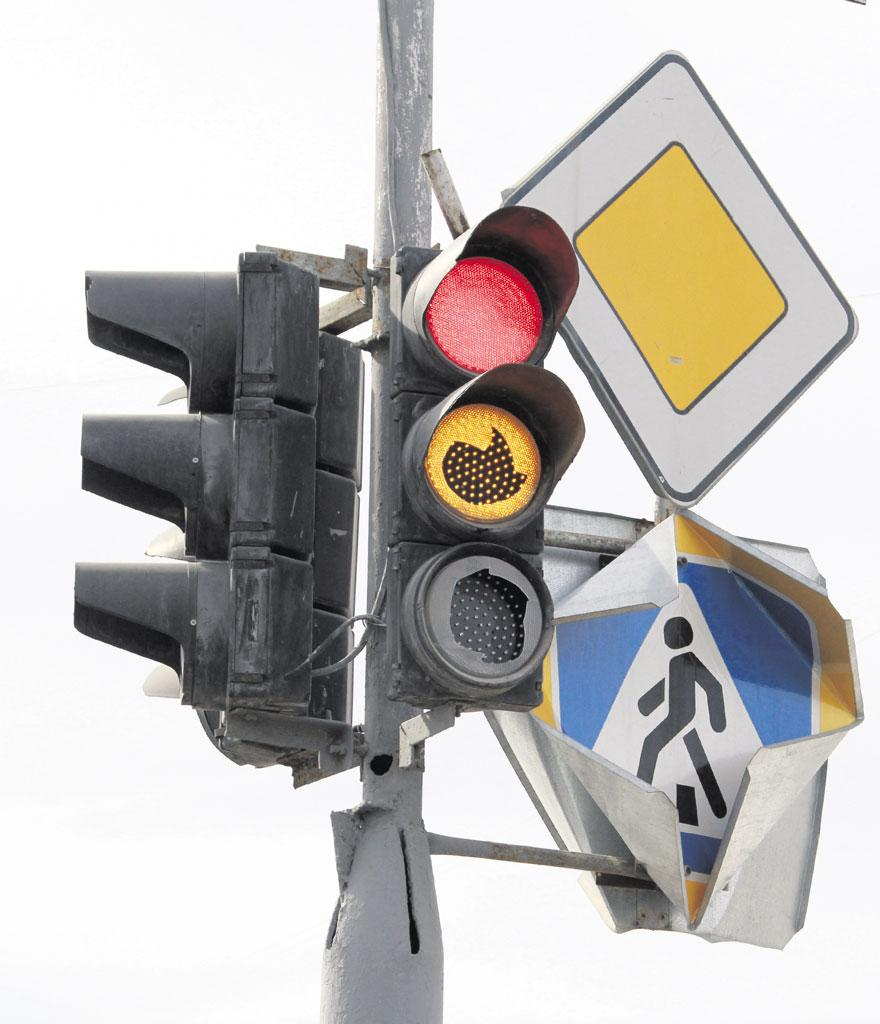obstructed_road_sign: (546, 512, 862, 948)
off traffic light: (76, 252, 318, 714), (384, 206, 584, 710)
road_sign: (506, 52, 856, 506)
